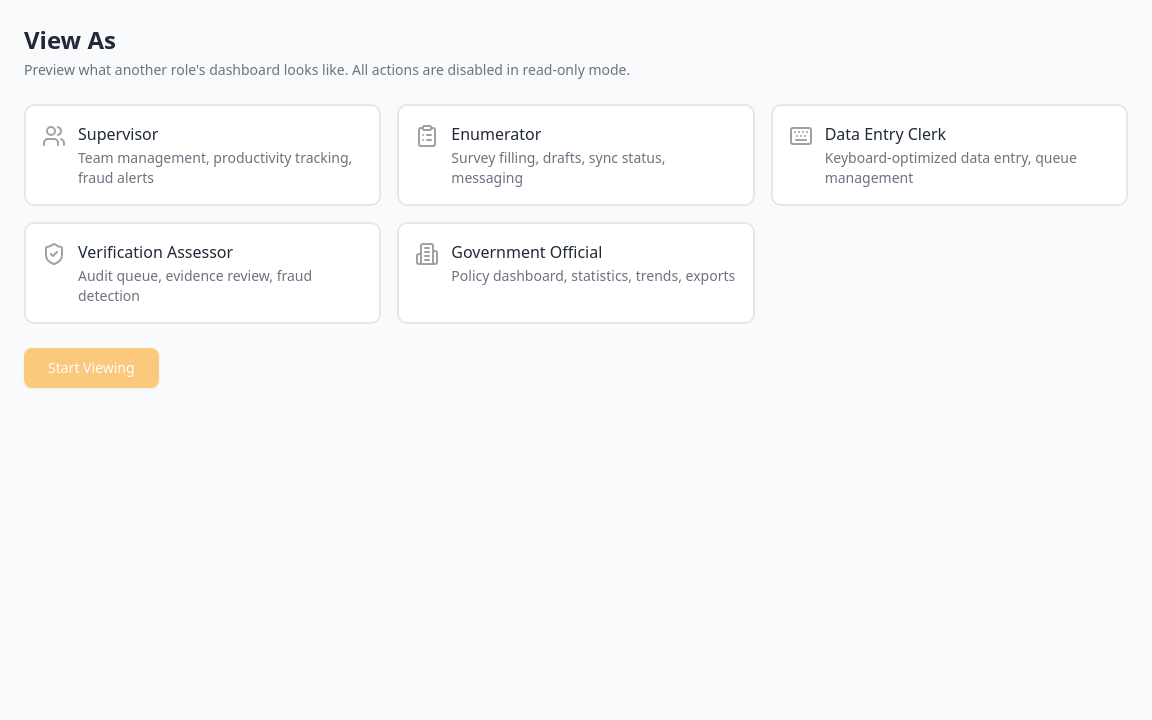
Test case: ViewAsPage › shows LGA dropdown when field role selected
The width and height of the screenshot is (1152, 720).
Note: Click enumerator role
Click the button with test id "role-card-enumerator" at coordinates (576, 155), box [397,104,755,206]
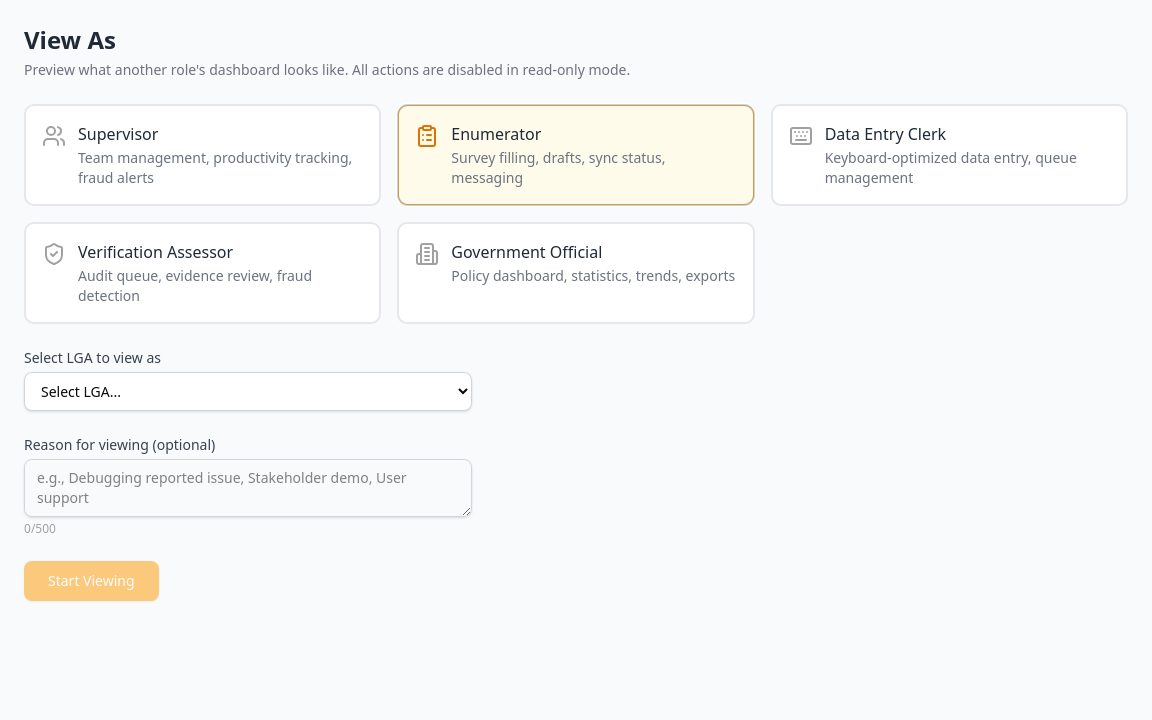
Check: the element with test id "lga-selector" is shown, box [24,348,472,411]
